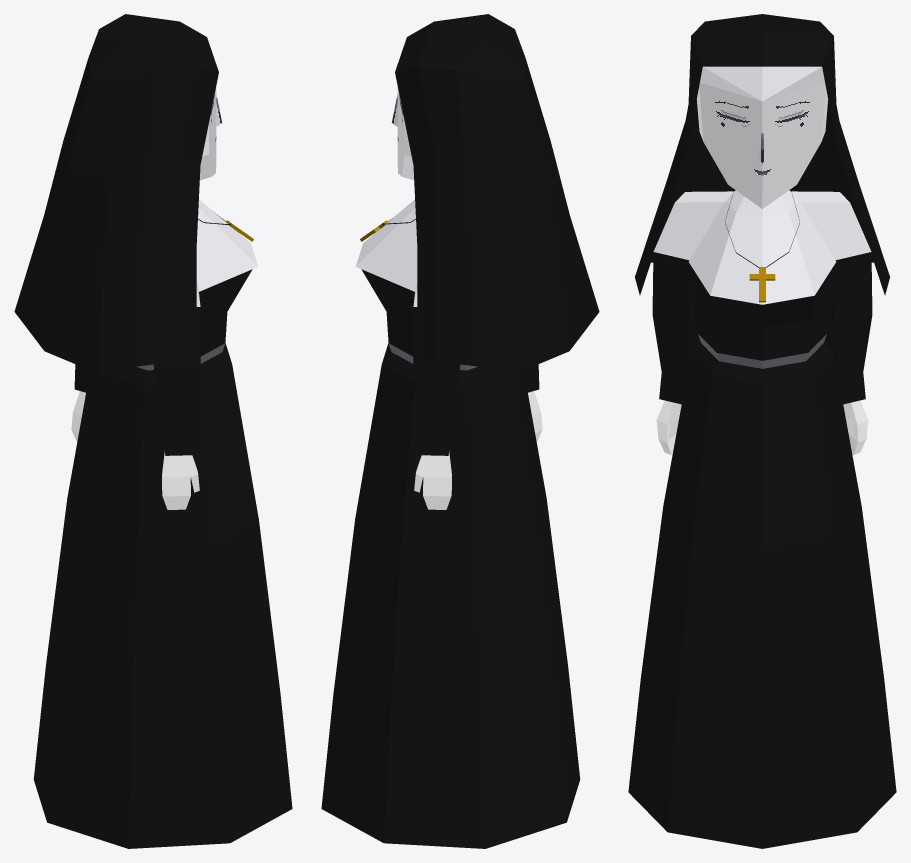
File: modeloisabella.gltf
The picture shows the model from 3 angles, left to right: view 1: azimuth 30°, elevation 25°; view 2: azimuth 150°, elevation 25°; view 3: azimuth 270°, elevation 25°; orthographic projection.
Parts seen in each view (by area): view 1: Vestido, Veu, Gola, Mão Esquerda; view 2: Vestido, Veu, Gola, Mão Esquerda; view 3: Vestido, Veu, Gola, Mão Esquerda.
Part boxes in pixels (<box>): Vestido: <box>33,269,292,848</box>; Veu: <box>14,14,221,374</box>; Gola: <box>196,199,257,291</box>; Mão Esquerda: <box>71,391,199,509</box>; Vestido: <box>321,269,580,848</box>; Veu: <box>392,14,599,374</box>; Gola: <box>356,199,417,291</box>; Mão Esquerda: <box>414,391,542,509</box>; Vestido: <box>628,191,896,848</box>; Veu: <box>635,14,889,295</box>; Gola: <box>689,190,835,304</box>; Mão Esquerda: <box>656,400,868,455</box>.
Bounding box in the file's own units: 2.22 × 6.94 × 2.19.
Materials: 4 (2 with a texture image).
